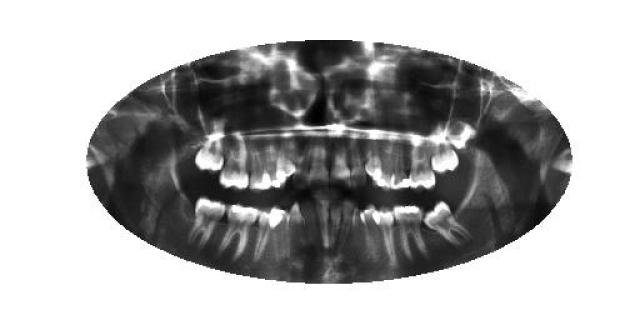Fillings: (216, 202, 258, 262), (392, 202, 428, 262), (268, 203, 288, 265), (391, 138, 410, 192)
Restorations: (423, 200, 472, 248)
